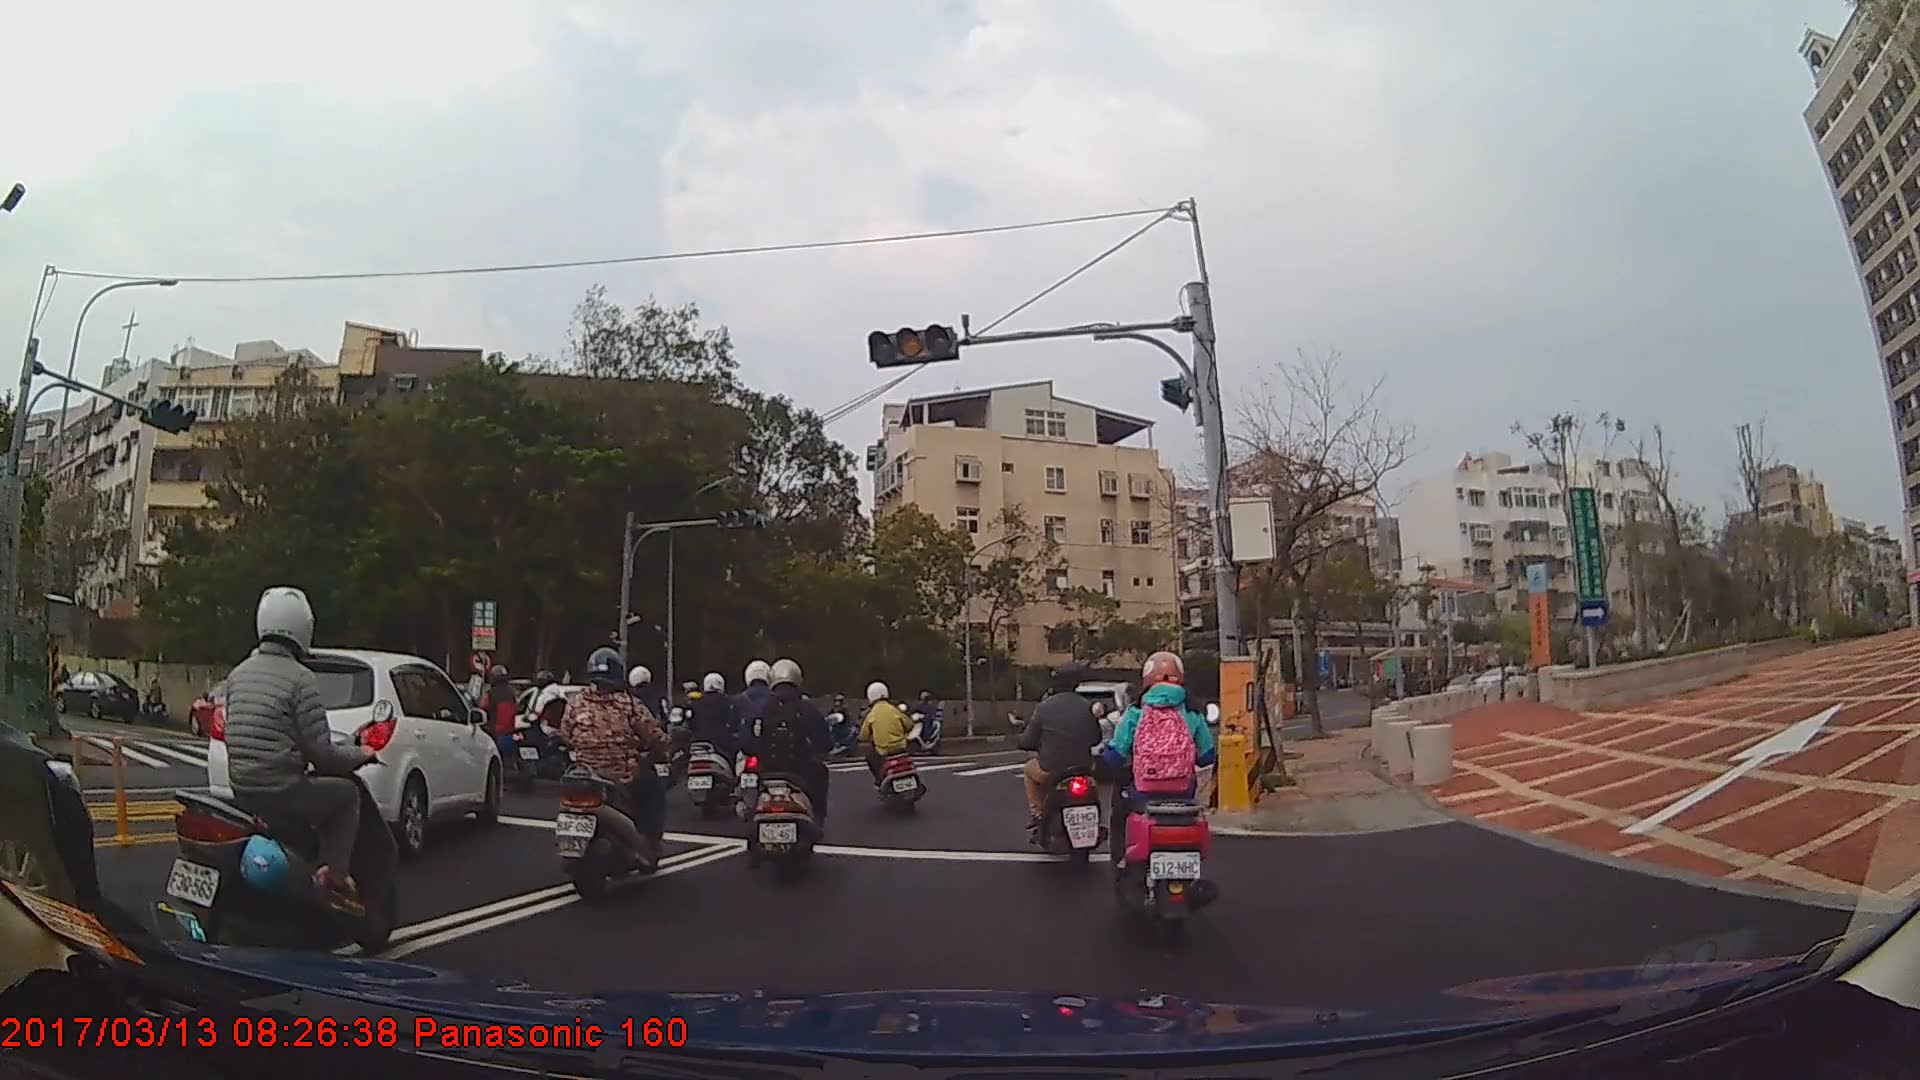rider: (171, 591, 408, 971), (1108, 645, 1219, 923), (554, 651, 673, 908), (1014, 662, 1116, 871), (745, 658, 833, 881), (852, 682, 930, 819), (460, 666, 543, 791), (603, 663, 678, 795), (681, 675, 749, 819), (507, 671, 574, 771), (903, 692, 946, 754), (822, 696, 858, 757)
vehicle: (203, 649, 501, 852), (188, 676, 290, 738), (50, 672, 143, 720)
